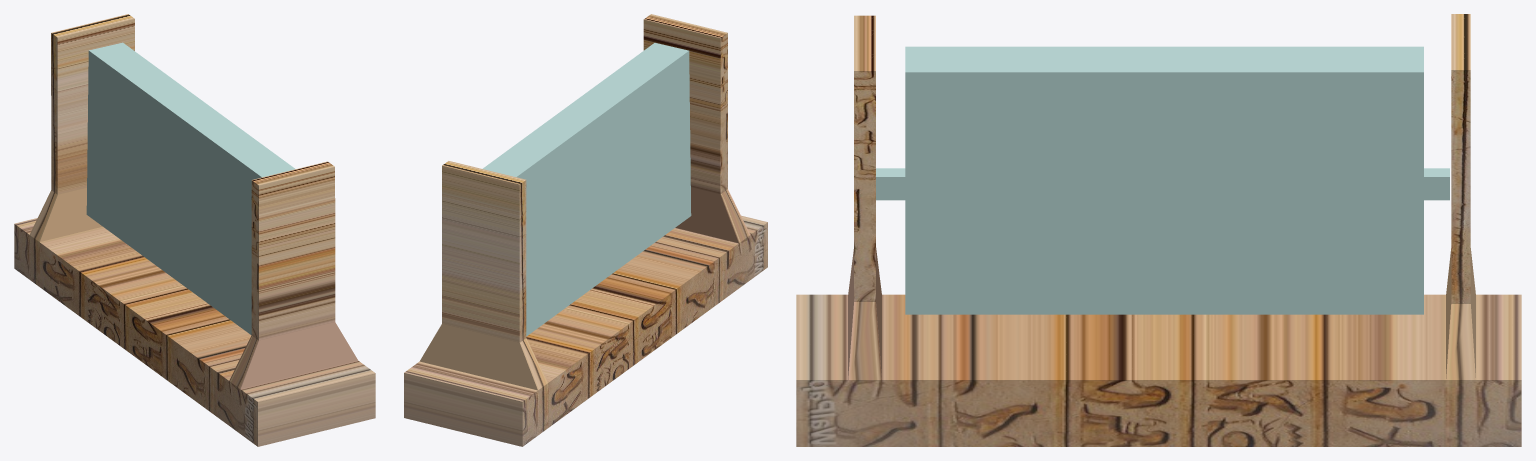
The model's file is Mirror.fbx.
3 views of the same model, side by side, from view 1: azimuth 30°, elevation 25°; view 2: azimuth 150°, elevation 25°; view 3: azimuth 270°, elevation 25° (orthographic). The views are drawn at different scales.
Parts seen in each view (by area): view 1: Plane.001, Plane; view 2: Plane.001, Plane; view 3: Plane, Plane.001.
Part boxes in pixels (x1,y1,x2,y2): Plane.001: [14, 14, 375, 446]; Plane: [86, 42, 295, 334]; Plane.001: [404, 14, 767, 446]; Plane: [482, 43, 691, 336]; Plane: [876, 46, 1449, 314]; Plane.001: [796, 14, 1521, 446].
Size of the model in its own units: 55.78 by 110 by 200.
